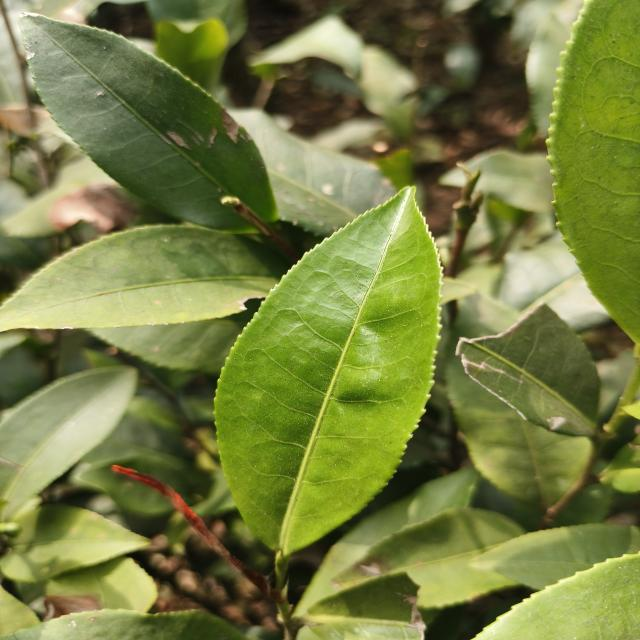Leaf: (215, 188, 440, 556), (19, 14, 278, 233), (548, 0, 640, 341), (0, 225, 287, 331), (298, 467, 479, 614), (445, 346, 592, 510), (230, 109, 396, 237), (0, 366, 137, 519), (456, 303, 599, 437), (336, 507, 522, 609), (474, 555, 640, 640), (90, 300, 260, 374), (0, 505, 149, 582), (471, 524, 640, 590), (249, 15, 364, 77), (44, 557, 158, 619), (76, 461, 173, 516), (156, 18, 228, 88), (450, 293, 518, 346), (118, 455, 208, 495)
